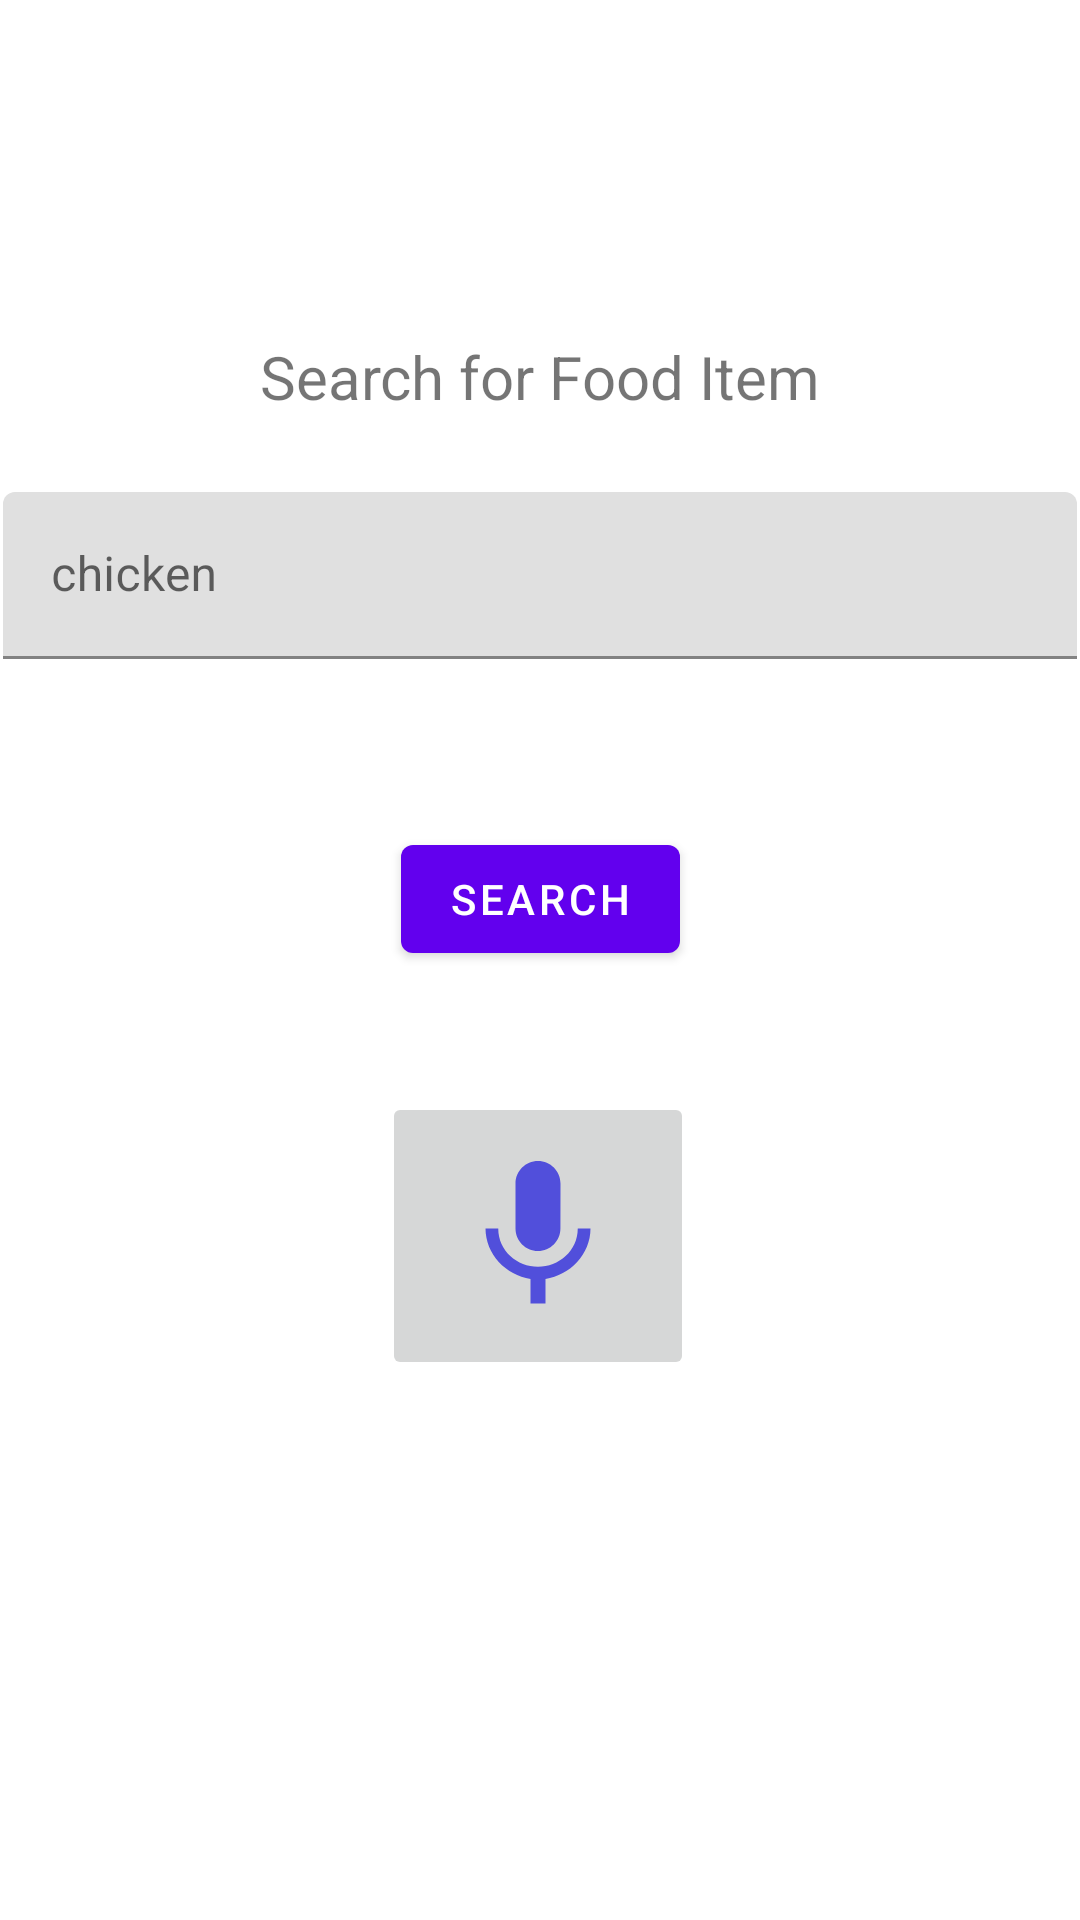

Icons on this 1080w x 1920h Android screen, each with the point to tap as (x=x, y=y):
mic: (x=538, y=1236)
